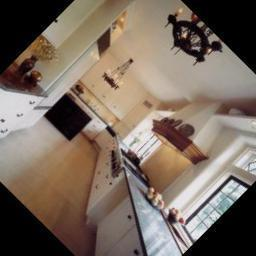Electrodomestico: (114, 148, 158, 192)
